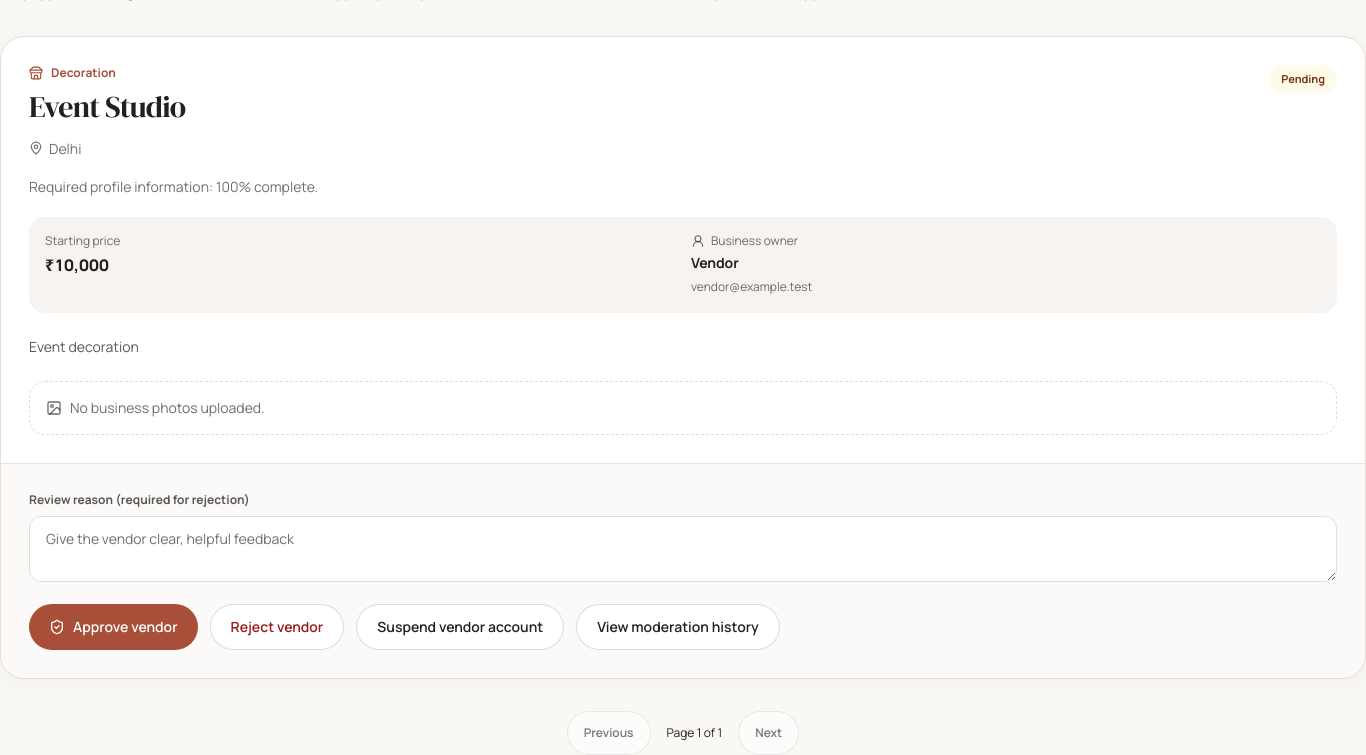
Scenario: admin vendor approval › shows moderation history using its protected listing endpoint
The width and height of the screenshot is (1366, 755).
(page scrolled)
Click the button "View moderation history" at (678, 626), box [576,604,780,650]
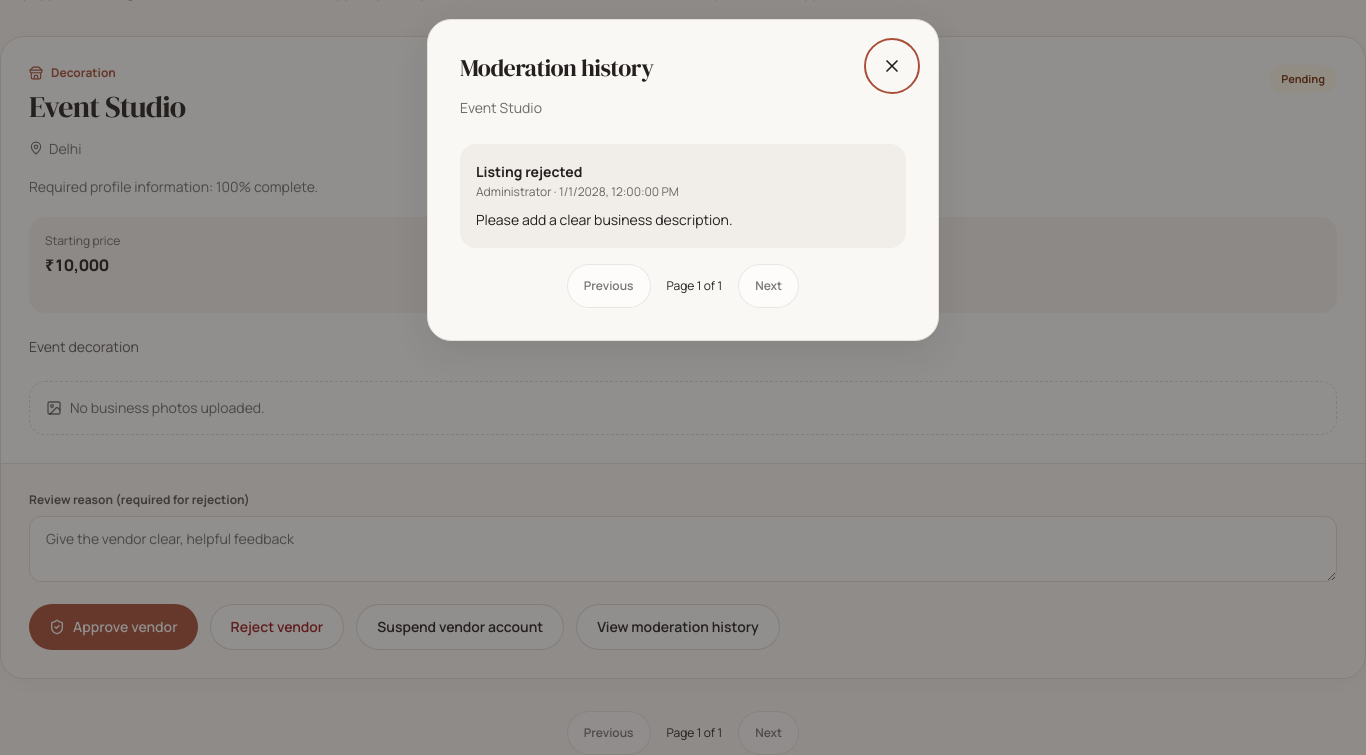
Result: the text "Please add a clear business description." is shown at [476,210,732,229]
Result: the text "Listing rejected" is shown at [476,162,582,181]
